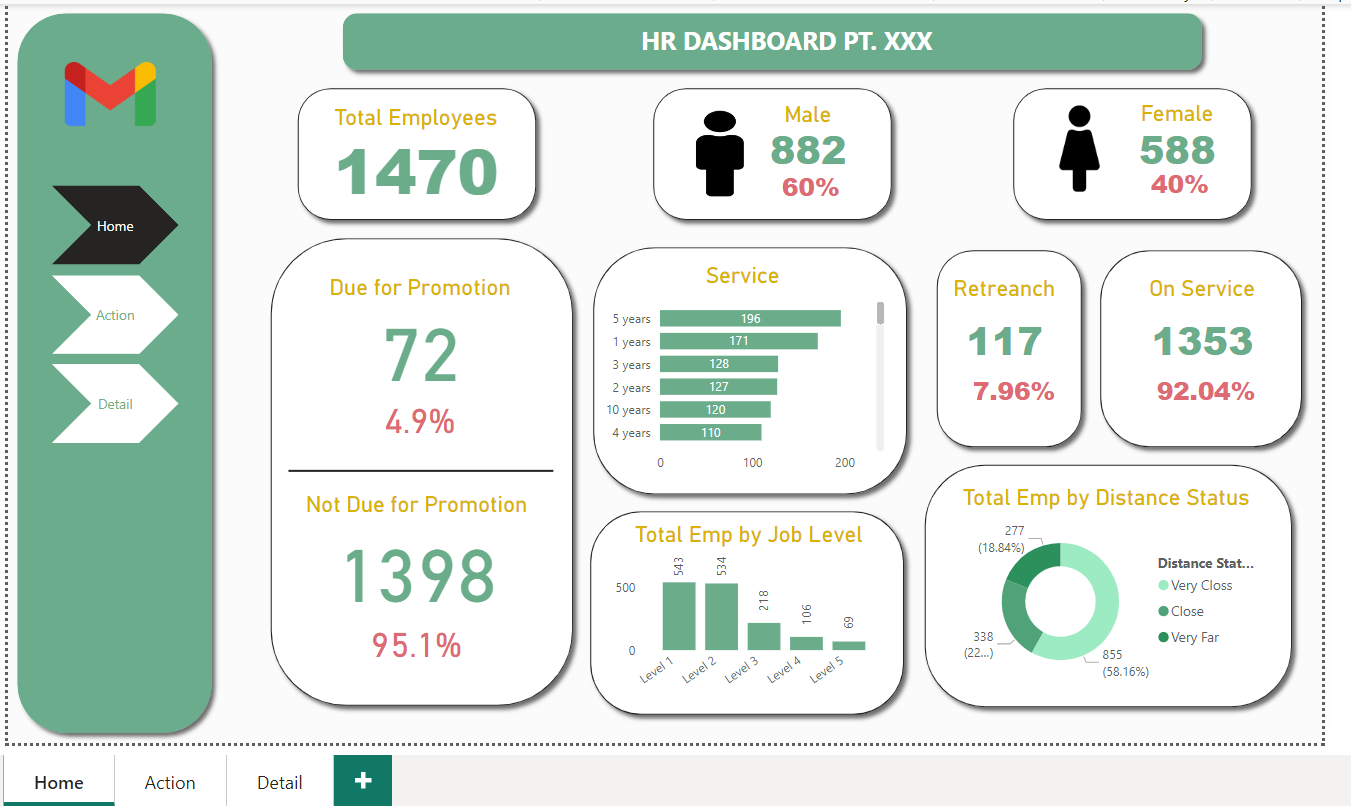

What the dashboard file says about the page in this screenshot:
{"tool":"powerbi","page":{"name":"Home","canvas":[1280,720],"ordinal":0},"visuals":[{"type":"shape","box":[317.8,0,855.1,73.2],"z":0},{"type":"shape","box":[620.1,73.2,250.4,146.4],"z":0,"group":"g3"},{"type":"shape","box":[246.8,219.6,312.4,473.6],"z":0,"group":"g1"},{"type":"card","title":"Male","fields":{"Values":["All Measure.Male"]},"box":[725.9,95.3,108.9,67.9],"z":1000,"group":"g3"},{"type":"shape","box":[560.5,227.4,323.7,259],"z":1000},{"type":"shape","box":[273.1,433.4,258,44.5],"z":1000,"group":"g1"},{"type":"card","title":"Male","fields":{"Values":["All Measure.% male"]},"box":[736.9,149,90,60],"z":2000,"group":"g3"},{"type":"group","id":"g1","title":"Group 3","box":[246.8,219.6,311.9,473.9],"z":2000},{"type":"image","box":[664.7,91.6,56.8,107.4],"z":3000,"group":"g3"},{"type":"shape","box":[1055,231.1,214.6,209.9],"z":3000,"group":"g5"},{"type":"shape","box":[884.2,440.5,375.8,254.2],"z":3000},{"type":"shape","box":[559,484.7,323.7,216.3],"z":4000},{"type":"textbox","box":[600,12.6,315.8,60],"z":5000},{"type":"shape","box":[895.6,231.1,159.4,209.9],"z":5000,"group":"g5"},{"type":"group","id":"g2","title":"Group 4","box":[273.2,72.6,251.1,146.8],"z":6000},{"type":"group","id":"g3","title":"Group 5","box":[620.1,73.2,250.4,146.4],"z":7000},{"type":"group","id":"g4","title":"Group 7","box":[970.6,62.9,250.4,156.7],"z":8000},{"type":"card","title":"Not Due for Promotion","fields":{"Values":["All Measure.not due for promotion"]},"box":[273.2,475.3,249.5,118.4],"z":9000},{"type":"card","fields":{"Values":["All Measure.% not due for promotion"]},"box":[326.8,576.3,140.5,91.6],"z":10000},{"type":"shape","box":[273.2,72.6,250.4,146.4],"z":11000,"group":"g2"},{"type":"shape","box":[970.6,73.2,250.4,146.4],"z":11000,"group":"g4"},{"type":"card","fields":{"Values":["All Measure.% due for promotion"]},"box":[342.6,358.4,118.4,90],"z":11000},{"type":"card","title":"Total Employees","fields":{"Values":["All Measure.Total Emp"]},"box":[304,97.6,186.8,96.3],"z":12000,"group":"g2"},{"type":"card","title":"Due for Promotion","fields":{"Values":["All Measure.Due for promotion"]},"box":[300,263.7,203.7,112.1],"z":12000},{"type":"card","title":"Female","fields":{"Values":["All Measure.Female"]},"box":[1082.7,92.9,112.1,69.5],"z":13000,"group":"g4"},{"type":"barChart","title":"Service","fields":{"Category":["HR Analytics Data.Service year"],"Y":["All Measure.Total Emp"]},"box":[573.2,251.1,285.8,213.2],"z":13000},{"type":"image","box":[1018.6,62.9,50,155.7],"z":14000,"group":"g4"},{"type":"columnChart","fields":{"Category":["HR Analytics Data.Job Level"],"Y":["All Measure.Total Emp"]},"box":[585.8,503.7,271.6,180],"z":14000},{"type":"card","title":"Male","fields":{"Values":["All Measure.% female"]},"box":[1093.8,146.6,96.3,60],"z":15000,"group":"g4"},{"type":"group","id":"g5","title":"Group 6","box":[895.6,231.1,373.3,210],"z":15000},{"type":"card","title":"On Service","fields":{"Values":["All Measure.On Service"]},"box":[1100,264,126,100],"z":16000},{"type":"card","fields":{"Values":["All Measure.% on service"]},"box":[1108,336,118,82],"z":17000},{"type":"card","title":"Retreanch","fields":{"Values":["All Measure.Retreanchment"]},"box":[908,264,126,100],"z":18000},{"type":"card","fields":{"Values":["All Measure.% retreanch"]},"box":[920,336,118,82],"z":19000},{"type":"donutChart","fields":{"Category":["HR Analytics Data.Distance Status"],"Y":["All Measure.Total Emp"]},"box":[925.3,467.4,296.8,203.7],"z":20000},{"type":"shape","box":[0,0,207.4,719.2],"z":21000},{"type":"image","box":[38.2,50.6,123.6,73],"z":22000},{"type":"pageNavigator","box":[42.4,177.2,124.2,252.9],"z":23000}]}

Visuals, with their boxes on the page's 1280x720 design canvas (x1, y1, x2, y2). These are canvas units, not pixel positions in the 1351x806 screenshot, which may show the page scaled, cropped or inside an application window:
shape: <bbox>318, 0, 1173, 73</bbox>
shape: <bbox>620, 73, 870, 220</bbox>
shape: <bbox>247, 220, 559, 693</bbox>
"Male" card: <bbox>726, 95, 835, 163</bbox>
shape: <bbox>560, 227, 884, 486</bbox>
shape: <bbox>273, 433, 531, 478</bbox>
"Male" card: <bbox>737, 149, 827, 209</bbox>
"Group 3" group: <bbox>247, 220, 559, 694</bbox>
image: <bbox>665, 92, 722, 199</bbox>
shape: <bbox>1055, 231, 1270, 441</bbox>
shape: <bbox>884, 440, 1260, 695</bbox>
shape: <bbox>559, 485, 883, 701</bbox>
textbox: <bbox>600, 13, 916, 73</bbox>
shape: <bbox>896, 231, 1055, 441</bbox>
"Group 4" group: <bbox>273, 73, 524, 219</bbox>
"Group 5" group: <bbox>620, 73, 870, 220</bbox>
"Group 7" group: <bbox>971, 63, 1221, 220</bbox>
"Not Due for Promotion" card: <bbox>273, 475, 523, 594</bbox>
card - All Measure.% not due for promotion: <bbox>327, 576, 467, 668</bbox>
shape: <bbox>273, 73, 524, 219</bbox>
shape: <bbox>971, 73, 1221, 220</bbox>
card - All Measure.% due for promotion: <bbox>343, 358, 461, 448</bbox>
"Total Employees" card: <bbox>304, 98, 491, 194</bbox>
"Due for Promotion" card: <bbox>300, 264, 504, 376</bbox>
"Female" card: <bbox>1083, 93, 1195, 162</bbox>
"Service" barChart: <bbox>573, 251, 859, 464</bbox>
image: <bbox>1019, 63, 1069, 219</bbox>
columnChart - HR Analytics Data.Job Level x All Measure.Total Emp: <bbox>586, 504, 857, 684</bbox>
"Male" card: <bbox>1094, 147, 1190, 207</bbox>
"Group 6" group: <bbox>896, 231, 1269, 441</bbox>
"On Service" card: <bbox>1100, 264, 1226, 364</bbox>
card - All Measure.% on service: <bbox>1108, 336, 1226, 418</bbox>
"Retreanch" card: <bbox>908, 264, 1034, 364</bbox>
card - All Measure.% retreanch: <bbox>920, 336, 1038, 418</bbox>
donutChart - HR Analytics Data.Distance Status x All Measure.Total Emp: <bbox>925, 467, 1222, 671</bbox>
shape: <bbox>0, 0, 207, 719</bbox>
image: <bbox>38, 51, 162, 124</bbox>
pageNavigator: <bbox>42, 177, 167, 430</bbox>
